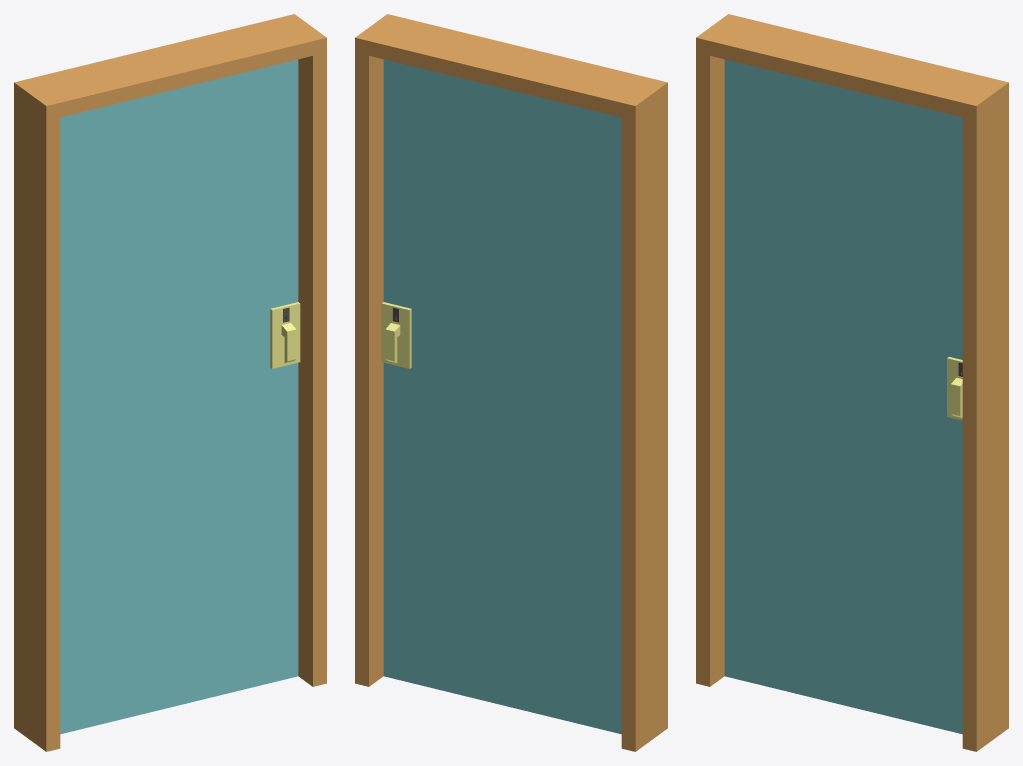
The model's file is DoorC.fbx.
The picture shows the model from 3 angles, left to right: view 1: azimuth 30°, elevation 25°; view 2: azimuth 150°, elevation 25°; view 3: azimuth 330°, elevation 25°; orthographic projection.
Parts seen in each view (by area): view 1: PuertaC, BordeC; view 2: PuertaC, BordeC; view 3: PuertaC, BordeC.
Part boxes in pixels (bbox=[...]): PuertaC: bbox=[60, 59, 300, 734]; BordeC: bbox=[14, 14, 326, 751]; PuertaC: bbox=[381, 59, 621, 734]; BordeC: bbox=[355, 14, 667, 751]; PuertaC: bbox=[724, 59, 962, 734]; BordeC: bbox=[696, 14, 1008, 751].
Bounding box in the file's own units: 100 × 220 × 20.
